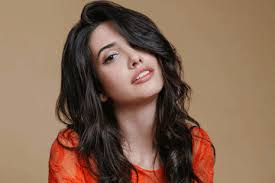bare: (95, 58, 166, 100)
